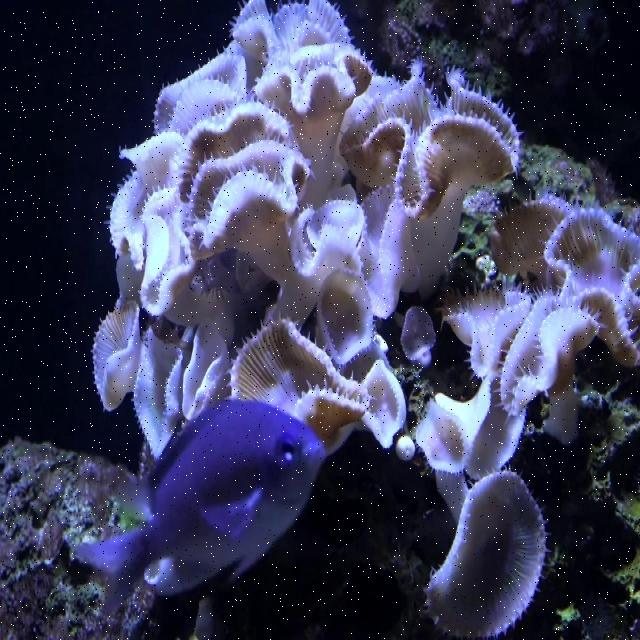fish: (73, 399, 328, 613)
reefs: (91, 1, 639, 639)
